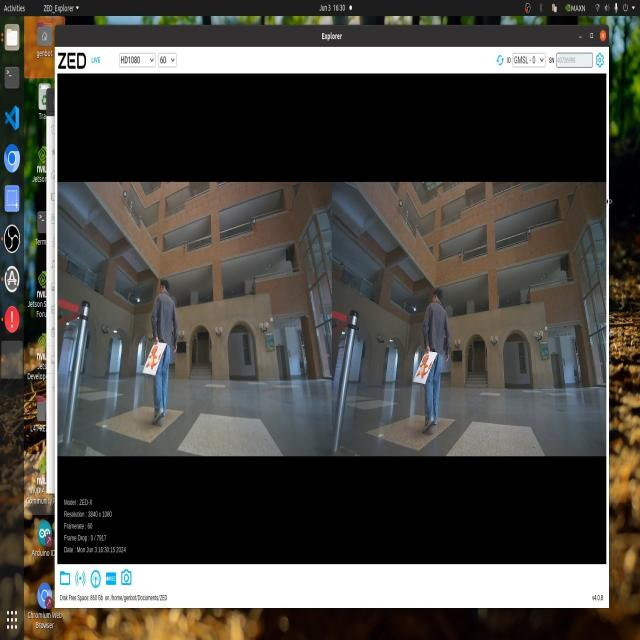red: (146, 344, 162, 374), (419, 352, 432, 382)
